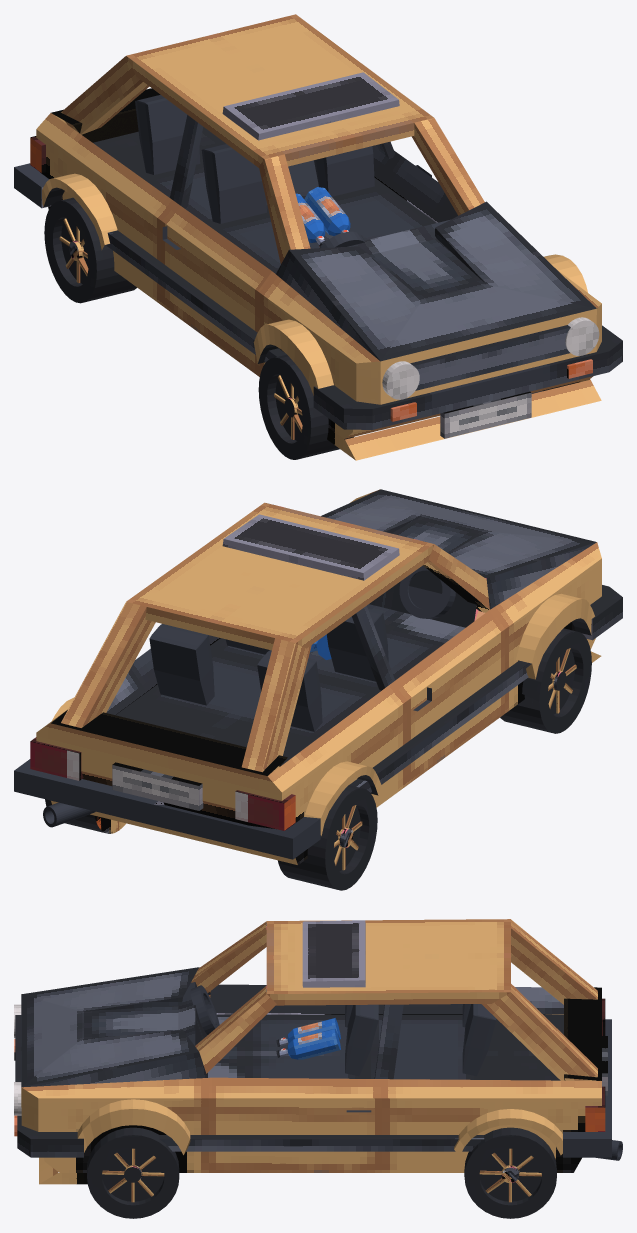
The model's file is golf-joined.glb.
3 views of the same model, one above another, from view 1: azimuth 30°, elevation 25°; view 2: azimuth 150°, elevation 25°; view 3: azimuth 270°, elevation 25° (orthographic). The views are drawn at different scales.
Visible parts, largest first — view 1: Cube.029; view 2: Cube.029; view 3: Cube.029.
Boxes of the visible parts, left/top/right/bottom form: Cube.029: left=14, top=14, right=622, bottom=460; Cube.029: left=14, top=489, right=622, bottom=890; Cube.029: left=14, top=919, right=622, bottom=1218.
Bounding box in the file's own units: 2.56 × 1.99 × 5.28.
3 materials, 2 textured.
